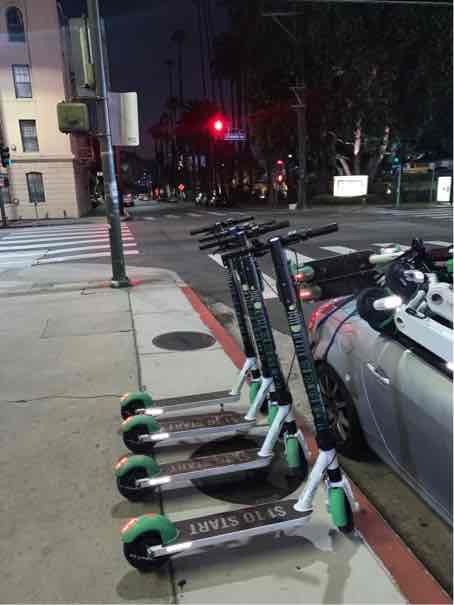too close: (305, 476, 383, 542), (262, 429, 329, 477)
